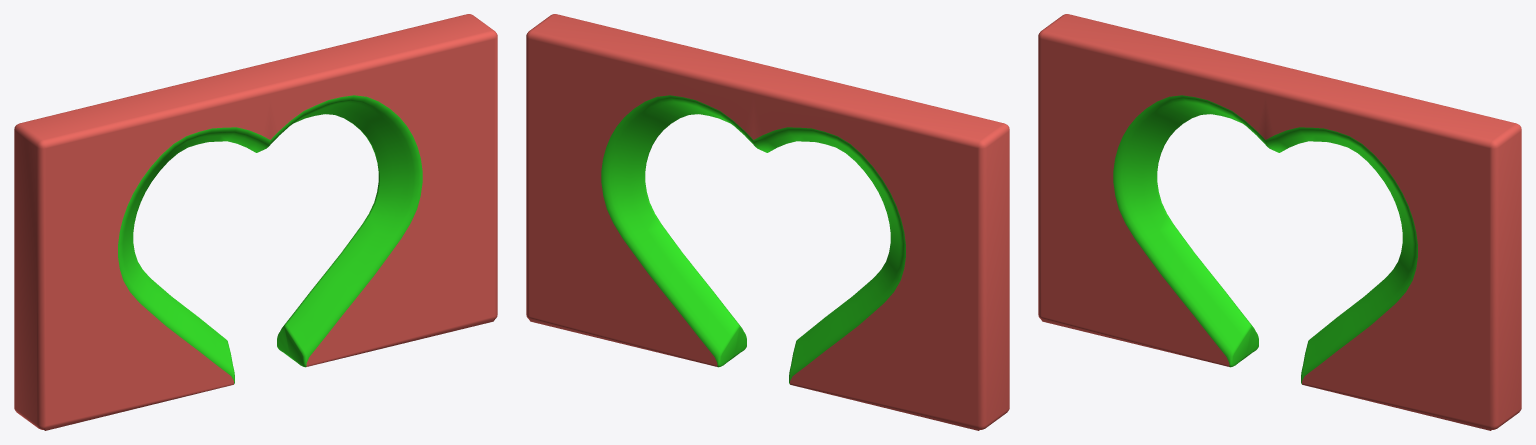
File: OutlinedHeartObstUVFixed.fbx
The picture shows the model from 3 angles, left to right: view 1: azimuth 30°, elevation 25°; view 2: azimuth 150°, elevation 25°; view 3: azimuth 330°, elevation 25°; orthographic projection.
Visible parts, largest first — view 1: obst1.002; view 2: obst1.002; view 3: obst1.002.
Boxes of the visible parts, <box> form: obst1.002: <box>14,14,497,430</box>; obst1.002: <box>526,14,1009,430</box>; obst1.002: <box>1038,14,1521,430</box>.
Bounding box in the file's own units: 1007 × 605 × 109.
